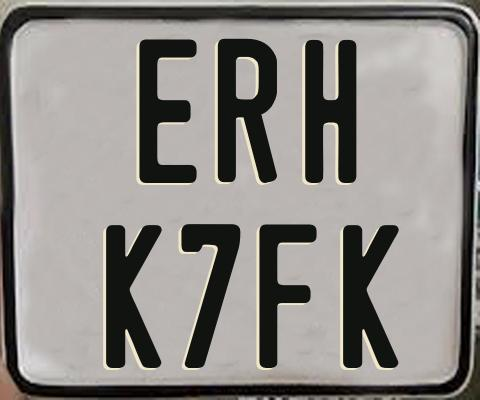7: (181, 223, 242, 370)
E: (138, 36, 200, 181)
F: (257, 222, 316, 370)
H: (304, 40, 358, 187)
K: (104, 224, 163, 369), (340, 224, 397, 371)
R: (215, 39, 276, 184)
